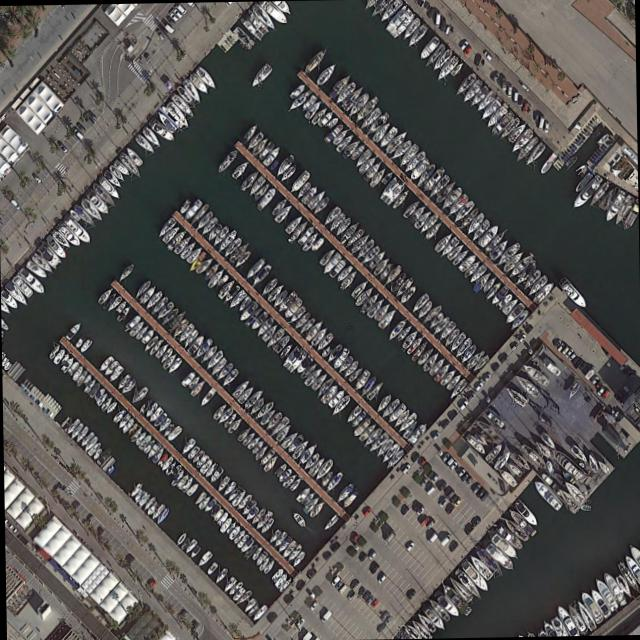large-vehicle: (433, 12, 441, 27), (537, 115, 544, 131)
ship: (549, 446, 589, 485), (569, 173, 604, 211), (451, 566, 486, 603), (516, 439, 549, 474), (383, 5, 415, 41), (530, 477, 563, 511), (237, 8, 269, 42), (459, 558, 490, 593), (487, 530, 520, 562), (557, 276, 588, 310), (61, 212, 92, 245), (600, 570, 627, 607), (474, 546, 505, 578), (483, 541, 515, 572), (592, 576, 618, 612), (506, 507, 536, 538), (440, 583, 469, 615), (578, 590, 604, 625), (16, 266, 46, 296), (494, 522, 524, 552), (116, 150, 144, 181), (512, 134, 540, 165), (33, 239, 61, 270), (615, 560, 640, 594), (168, 91, 197, 120), (376, 177, 404, 207), (352, 94, 380, 124), (602, 189, 626, 224), (164, 100, 191, 131), (89, 181, 118, 209), (147, 117, 176, 145), (501, 515, 530, 543), (339, 82, 366, 112), (420, 602, 447, 632), (445, 574, 472, 604), (512, 498, 539, 528), (280, 344, 307, 374), (573, 599, 597, 632), (83, 188, 111, 216), (611, 193, 634, 227), (520, 361, 550, 387), (587, 587, 611, 619), (250, 3, 277, 31), (3, 280, 30, 308), (506, 253, 533, 281), (494, 240, 521, 268), (54, 221, 81, 249), (466, 553, 493, 581), (303, 45, 329, 74), (507, 127, 533, 156), (564, 603, 587, 635), (420, 166, 446, 194), (71, 202, 97, 230), (433, 55, 459, 83), (383, 128, 409, 155), (425, 173, 451, 200), (437, 185, 463, 212), (431, 179, 457, 206), (326, 72, 352, 99), (78, 196, 104, 223), (512, 372, 539, 398), (229, 25, 255, 52), (585, 180, 610, 208), (555, 487, 580, 515), (336, 218, 362, 244), (286, 87, 313, 112), (512, 260, 537, 287), (193, 64, 218, 91), (364, 111, 391, 136), (346, 91, 371, 118), (452, 71, 477, 98), (421, 43, 446, 70), (496, 115, 521, 142), (180, 77, 204, 105), (595, 184, 618, 213), (248, 263, 273, 289), (285, 219, 310, 245), (401, 149, 427, 174), (449, 199, 474, 225), (443, 193, 469, 218), (43, 234, 68, 260), (96, 175, 121, 201), (426, 597, 451, 623), (561, 478, 585, 505), (459, 78, 483, 105), (405, 23, 429, 50), (435, 594, 460, 619), (488, 112, 513, 137), (476, 98, 501, 123), (395, 142, 419, 168), (248, 63, 272, 89), (531, 279, 555, 305), (482, 229, 506, 255), (333, 79, 357, 105), (139, 124, 163, 150), (214, 148, 238, 174), (416, 35, 440, 61), (522, 141, 546, 167), (405, 420, 429, 446), (413, 161, 436, 188), (472, 418, 499, 441), (226, 240, 250, 265), (10, 274, 34, 299), (406, 157, 430, 182), (500, 249, 524, 274), (476, 223, 500, 248), (462, 211, 486, 236), (357, 106, 382, 130), (537, 354, 562, 378), (483, 105, 508, 129), (164, 308, 188, 333), (215, 227, 238, 253), (287, 169, 310, 195), (456, 205, 479, 231), (347, 231, 371, 255), (503, 384, 527, 408), (525, 273, 548, 298), (487, 237, 510, 262), (314, 61, 337, 86), (154, 109, 177, 134), (430, 48, 453, 73), (360, 425, 383, 450), (436, 236, 459, 260), (469, 270, 492, 294), (502, 302, 525, 326), (506, 308, 529, 332), (355, 153, 378, 177), (237, 169, 260, 193), (389, 137, 412, 161), (468, 218, 491, 242), (413, 610, 436, 634), (395, 411, 418, 435), (191, 337, 214, 361), (361, 159, 383, 184), (273, 153, 295, 178), (384, 318, 406, 343), (399, 16, 421, 41), (312, 457, 334, 482), (30, 252, 53, 275), (463, 432, 486, 455), (188, 202, 210, 226), (255, 186, 277, 210), (408, 339, 430, 363), (320, 252, 342, 276), (358, 291, 380, 315), (375, 306, 397, 330), (520, 268, 542, 292), (187, 72, 209, 96), (376, 125, 398, 149), (185, 250, 207, 274), (381, 264, 402, 289), (614, 574, 634, 600), (416, 213, 438, 236), (432, 230, 454, 253), (463, 348, 485, 371), (420, 303, 443, 325), (358, 244, 381, 266), (353, 238, 376, 260), (275, 291, 297, 314), (302, 319, 324, 342), (352, 285, 374, 308), (484, 410, 507, 432), (467, 85, 489, 108), (313, 376, 335, 399), (329, 394, 351, 417), (367, 431, 389, 454), (378, 442, 400, 465), (237, 300, 259, 323), (253, 315, 275, 338), (204, 266, 225, 290), (322, 122, 344, 144), (333, 132, 355, 154), (243, 258, 265, 280), (49, 228, 71, 250), (370, 121, 392, 143), (133, 133, 155, 155), (242, 388, 264, 410), (197, 343, 219, 365), (383, 449, 405, 471), (128, 384, 150, 406), (366, 166, 387, 189), (409, 291, 430, 314), (193, 209, 214, 232), (364, 379, 385, 402), (419, 350, 440, 373), (24, 259, 47, 280), (175, 84, 196, 107), (496, 466, 517, 489), (491, 449, 512, 472), (385, 402, 406, 425), (506, 120, 527, 143), (155, 216, 176, 239), (290, 438, 311, 461), (268, 415, 289, 438), (215, 277, 236, 300), (296, 443, 317, 466), (387, 270, 407, 294), (537, 152, 557, 176), (466, 263, 487, 285), (389, 188, 410, 210), (400, 198, 421, 220), (452, 337, 473, 359), (320, 205, 341, 227), (393, 276, 414, 298), (344, 227, 366, 248), (366, 248, 387, 270), (258, 276, 279, 298), (181, 199, 202, 221), (272, 203, 293, 225), (431, 362, 452, 384), (446, 378, 467, 400), (283, 213, 304, 235), (337, 269, 358, 291), (482, 442, 503, 464), (474, 90, 495, 112), (253, 398, 275, 419), (203, 349, 224, 371), (165, 229, 186, 251), (171, 234, 192, 256), (318, 383, 339, 405), (356, 421, 377, 443), (373, 437, 394, 459), (263, 327, 284, 349), (334, 482, 355, 504), (323, 471, 344, 493), (306, 455, 327, 477), (222, 236, 242, 259), (210, 224, 230, 247), (261, 144, 281, 167), (365, 296, 385, 319), (352, 368, 371, 392), (411, 209, 432, 230), (351, 148, 372, 169), (198, 216, 219, 237), (229, 159, 250, 180), (264, 282, 285, 303), (414, 345, 435, 366), (403, 335, 424, 356), (101, 169, 122, 190), (568, 443, 589, 464), (159, 306, 180, 327), (148, 295, 169, 316), (302, 366, 323, 387), (193, 255, 214, 276), (225, 289, 246, 310), (461, 258, 481, 280), (340, 138, 360, 160), (326, 211, 346, 233), (332, 216, 352, 238), (282, 297, 302, 319), (306, 188, 326, 210), (399, 328, 419, 350), (327, 257, 347, 279), (295, 224, 315, 246), (371, 301, 391, 323), (390, 408, 410, 430), (123, 145, 143, 167), (93, 445, 113, 467), (143, 289, 163, 311), (263, 410, 283, 432), (230, 378, 250, 400), (243, 306, 263, 328), (447, 331, 466, 354), (330, 347, 349, 370), (300, 231, 319, 254), (488, 285, 508, 306), (406, 203, 426, 224), (458, 343, 478, 364), (431, 315, 451, 336), (246, 175, 266, 196), (340, 358, 360, 379), (426, 356, 446, 377), (349, 279, 369, 300), (511, 451, 531, 472), (279, 429, 299, 450), (257, 407, 277, 428), (235, 384, 255, 405), (219, 367, 239, 388), (160, 224, 180, 245), (326, 388, 346, 409), (351, 417, 371, 438), (220, 284, 240, 305), (271, 333, 291, 354), (249, 310, 269, 331), (339, 488, 359, 509), (441, 327, 460, 349), (380, 397, 399, 419), (324, 342, 343, 364), (538, 430, 557, 452), (358, 375, 376, 398), (445, 242, 465, 262), (422, 221, 442, 241), (244, 131, 264, 151), (302, 100, 322, 120), (397, 285, 417, 305), (250, 136, 270, 156), (314, 332, 334, 352), (106, 163, 126, 183), (214, 361, 234, 381), (208, 357, 228, 377), (371, 256, 390, 277), (256, 140, 275, 161), (309, 326, 328, 347), (251, 181, 270, 202), (299, 184, 318, 205), (573, 172, 592, 193), (170, 318, 189, 339), (132, 279, 151, 300), (273, 422, 292, 443), (186, 334, 205, 355), (178, 240, 197, 261), (297, 361, 318, 380), (309, 371, 328, 392), (294, 354, 313, 375), (201, 261, 220, 282), (197, 387, 216, 408), (449, 248, 469, 267), (457, 253, 476, 273), (483, 280, 502, 300), (500, 296, 519, 316), (309, 106, 328, 126), (330, 127, 349, 147), (438, 368, 457, 388), (311, 196, 330, 216), (317, 247, 336, 267), (334, 264, 354, 283), (298, 93, 317, 113), (111, 158, 130, 178), (598, 408, 618, 427), (116, 263, 135, 283), (260, 322, 279, 342), (285, 434, 304, 454), (471, 354, 490, 373), (437, 320, 456, 339), (232, 250, 251, 269), (335, 355, 354, 374), (297, 316, 316, 335), (292, 311, 311, 330), (394, 323, 413, 342), (287, 82, 306, 101), (234, 493, 253, 512), (532, 439, 551, 458), (155, 301, 174, 320), (104, 294, 123, 313), (301, 452, 320, 471), (260, 454, 279, 473), (301, 495, 320, 514), (187, 379, 206, 398), (415, 300, 433, 320), (204, 222, 222, 242), (374, 393, 392, 413), (288, 304, 306, 324), (269, 197, 287, 217), (444, 372, 462, 392), (285, 543, 303, 563), (233, 588, 253, 606), (176, 323, 194, 343), (181, 329, 199, 349), (247, 396, 265, 416), (307, 499, 325, 519), (160, 351, 178, 371), (377, 261, 394, 282), (401, 419, 418, 440), (494, 292, 512, 311), (315, 110, 334, 128), (348, 142, 366, 161), (270, 289, 288, 308), (294, 181, 312, 200), (138, 285, 156, 304), (127, 319, 145, 338), (95, 287, 113, 306), (178, 437, 196, 456), (96, 354, 114, 373), (179, 369, 197, 388), (242, 122, 259, 142), (426, 312, 444, 330), (278, 165, 296, 183), (195, 550, 213, 568), (229, 489, 247, 507), (343, 405, 361, 423), (348, 411, 366, 429), (257, 448, 275, 466), (234, 425, 252, 443), (149, 502, 166, 521), (253, 512, 270, 531), (275, 535, 292, 554), (185, 245, 202, 264), (119, 377, 136, 396), (207, 466, 224, 485), (144, 442, 161, 461), (64, 321, 81, 340), (165, 356, 182, 375), (210, 402, 227, 421), (226, 416, 243, 435), (241, 543, 258, 561), (239, 499, 257, 516), (249, 507, 266, 525), (250, 604, 267, 622), (64, 417, 81, 435), (78, 430, 95, 448), (102, 360, 119, 378), (165, 424, 182, 442), (280, 472, 297, 490), (294, 485, 311, 503), (321, 515, 339, 532), (216, 407, 233, 425), (169, 468, 185, 487), (100, 291, 116, 310), (107, 364, 123, 383), (147, 338, 163, 357), (480, 276, 497, 293), (346, 366, 363, 383), (133, 324, 150, 341), (124, 314, 141, 331), (252, 444, 269, 461), (154, 507, 170, 525), (220, 480, 236, 498), (290, 550, 306, 568), (258, 517, 274, 535), (281, 540, 297, 558), (217, 516, 233, 534), (68, 422, 84, 440), (114, 305, 130, 323), (115, 373, 131, 391), (128, 425, 144, 443), (136, 433, 152, 451), (198, 457, 214, 475), (276, 467, 292, 485), (142, 335, 158, 353), (59, 355, 74, 374), (140, 495, 156, 512), (226, 580, 243, 596), (238, 538, 255, 554), (271, 531, 287, 548), (506, 462, 523, 478), (559, 469, 576, 485), (82, 435, 98, 452), (139, 328, 155, 345), (138, 397, 154, 414), (151, 411, 167, 428), (147, 406, 163, 423), (153, 342, 169, 359), (221, 412, 237, 429), (240, 430, 256, 447), (159, 455, 174, 473), (212, 567, 227, 585), (221, 576, 236, 594), (243, 505, 258, 523), (74, 425, 89, 443), (116, 412, 131, 430), (215, 475, 230, 493), (150, 446, 165, 464), (158, 347, 173, 365), (74, 369, 88, 388), (309, 236, 325, 252), (562, 154, 578, 170), (472, 432, 488, 448), (235, 296, 251, 312), (86, 441, 102, 457), (193, 453, 209, 469), (272, 462, 288, 478), (300, 490, 316, 506), (290, 511, 306, 527), (249, 439, 265, 455), (46, 343, 61, 360), (273, 572, 288, 589), (231, 528, 246, 545), (119, 418, 134, 435), (98, 395, 113, 412), (156, 416, 171, 433), (319, 470, 334, 487), (51, 347, 65, 365), (125, 420, 139, 438), (184, 481, 199, 497), (201, 498, 216, 514), (65, 360, 80, 376), (253, 551, 268, 567), (261, 559, 276, 575), (269, 567, 284, 583), (230, 586, 245, 602), (234, 534, 250, 549), (226, 525, 241, 541), (586, 453, 598, 473), (595, 459, 610, 475), (538, 471, 554, 486), (277, 343, 292, 359), (111, 408, 126, 424), (81, 378, 96, 394), (143, 402, 158, 418), (287, 476, 302, 492), (245, 435, 261, 450), (136, 490, 150, 507), (175, 473, 189, 490), (177, 199, 191, 216), (183, 538, 197, 555), (242, 597, 256, 614), (86, 382, 100, 399), (203, 462, 217, 479), (144, 501, 159, 516), (196, 495, 211, 510), (277, 578, 292, 593), (189, 449, 204, 464), (186, 374, 201, 389), (245, 602, 259, 618), (379, 170, 393, 186), (163, 461, 177, 477), (128, 482, 142, 498), (225, 487, 239, 503), (256, 556, 270, 572), (267, 528, 281, 544), (449, 61, 463, 77), (133, 430, 147, 446), (141, 438, 155, 454), (78, 338, 92, 354), (180, 476, 193, 493), (566, 382, 579, 399), (70, 365, 83, 382), (192, 491, 206, 506), (249, 546, 263, 561), (215, 512, 229, 527), (214, 274, 228, 289), (185, 445, 199, 460), (161, 423, 175, 438), (132, 488, 145, 504), (155, 453, 169, 467), (207, 503, 220, 518), (325, 116, 339, 129), (174, 532, 187, 546), (205, 562, 218, 576), (224, 521, 237, 535), (596, 132, 609, 146), (574, 162, 587, 176), (104, 401, 117, 415), (72, 336, 85, 350), (58, 352, 70, 367), (67, 209, 80, 222), (211, 508, 224, 521), (114, 300, 127, 313), (92, 387, 105, 400), (170, 463, 182, 477), (188, 545, 200, 559), (543, 460, 554, 475), (320, 346, 332, 358), (91, 448, 102, 461), (82, 373, 92, 386), (268, 160, 278, 171), (2, 360, 12, 371), (579, 505, 590, 511)
small-vehicle: (381, 530, 395, 544), (319, 609, 332, 623), (426, 531, 438, 545), (177, 608, 189, 621), (328, 540, 340, 553), (584, 366, 595, 380), (440, 532, 451, 546), (51, 483, 63, 495), (293, 616, 305, 628), (84, 514, 95, 526), (69, 500, 80, 512), (375, 573, 386, 585), (86, 111, 97, 123), (382, 613, 393, 625), (436, 496, 447, 508), (447, 492, 458, 504), (465, 390, 476, 402), (463, 523, 474, 535), (155, 28, 165, 41), (401, 463, 411, 476), (266, 611, 276, 624), (175, 3, 186, 14), (145, 578, 156, 589), (366, 549, 377, 560), (368, 564, 379, 575), (359, 590, 370, 601), (333, 579, 344, 590), (329, 575, 340, 586), (71, 128, 82, 139), (9, 199, 20, 210), (481, 372, 492, 383), (447, 541, 458, 552), (414, 505, 425, 516), (304, 568, 315, 579), (470, 483, 481, 494), (308, 600, 318, 612), (406, 588, 416, 600), (348, 579, 358, 591), (337, 583, 347, 595), (482, 49, 492, 61), (376, 621, 386, 633), (399, 504, 409, 516), (437, 480, 447, 492), (479, 490, 489, 502), (455, 467, 465, 479), (405, 539, 414, 552), (379, 608, 388, 621), (348, 532, 358, 543), (357, 552, 367, 563), (30, 173, 41, 183), (490, 362, 500, 373), (473, 381, 483, 392), (452, 496, 462, 507), (425, 485, 435, 496), (419, 516, 429, 527), (282, 595, 292, 606), (458, 400, 468, 411), (474, 487, 484, 498), (458, 472, 468, 483), (459, 39, 468, 51), (426, 6, 435, 18), (364, 595, 374, 605), (345, 591, 355, 601), (75, 123, 85, 133), (509, 341, 519, 351), (444, 490, 454, 500), (463, 476, 473, 486), (448, 411, 458, 421), (439, 452, 449, 462), (430, 431, 440, 441), (470, 516, 480, 526), (368, 598, 377, 609), (356, 586, 365, 597), (58, 143, 67, 154), (461, 45, 472, 54), (556, 341, 565, 352), (517, 332, 526, 343), (418, 477, 427, 488), (294, 580, 303, 591), (429, 473, 438, 484), (448, 460, 457, 471), (473, 54, 481, 66), (165, 17, 175, 26), (168, 12, 178, 21), (172, 9, 181, 19), (595, 386, 604, 396), (589, 375, 598, 385), (560, 345, 569, 355), (520, 82, 529, 92), (498, 355, 508, 364), (445, 505, 454, 515), (444, 457, 453, 467), (362, 506, 370, 517), (410, 452, 418, 463), (578, 361, 587, 370), (570, 355, 579, 364), (563, 348, 572, 357), (412, 501, 421, 510), (440, 420, 449, 429), (491, 71, 498, 82), (600, 389, 608, 398), (553, 338, 561, 347), (506, 85, 512, 97), (521, 101, 527, 113), (500, 79, 506, 90), (567, 352, 575, 360), (543, 121, 548, 133), (513, 92, 518, 103)
